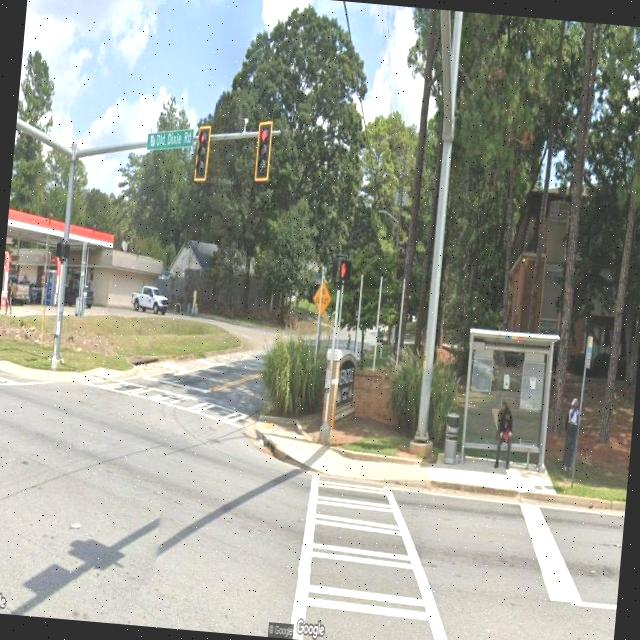seating: (494, 438, 538, 468)
shelter: (456, 328, 560, 474)
trash_can: (442, 416, 459, 464)
